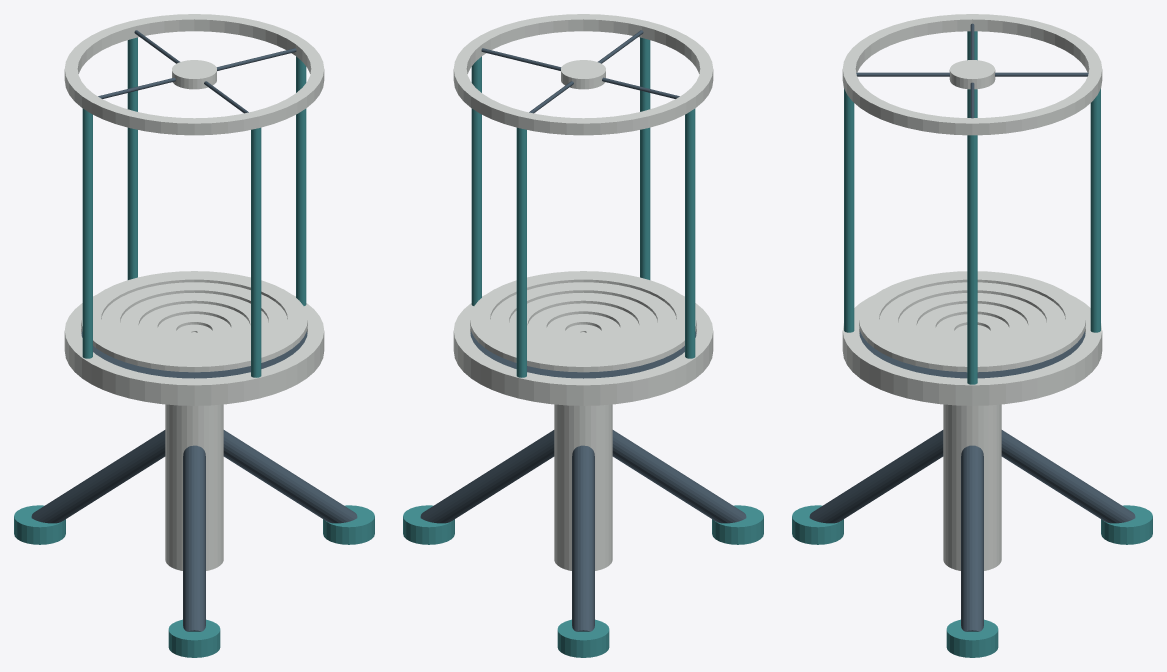
The picture shows the model from 3 angles, left to right: view 1: azimuth 30°, elevation 25°; view 2: azimuth 150°, elevation 25°; view 3: azimuth 270°, elevation 25°; orthographic projection.
Visible parts, largest first — view 1: ME-061 Open truss reflecting surface telescope batched; view 2: ME-061 Open truss reflecting surface telescope batched; view 3: ME-061 Open truss reflecting surface telescope batched.
Boxes of the visible parts, <box> form: ME-061 Open truss reflecting surface telescope batched: <box>14,14,374,657</box>; ME-061 Open truss reflecting surface telescope batched: <box>403,14,763,657</box>; ME-061 Open truss reflecting surface telescope batched: <box>792,14,1152,657</box>.
Size of the model in its own units: 1.03 by 1.71 by 1.11.
